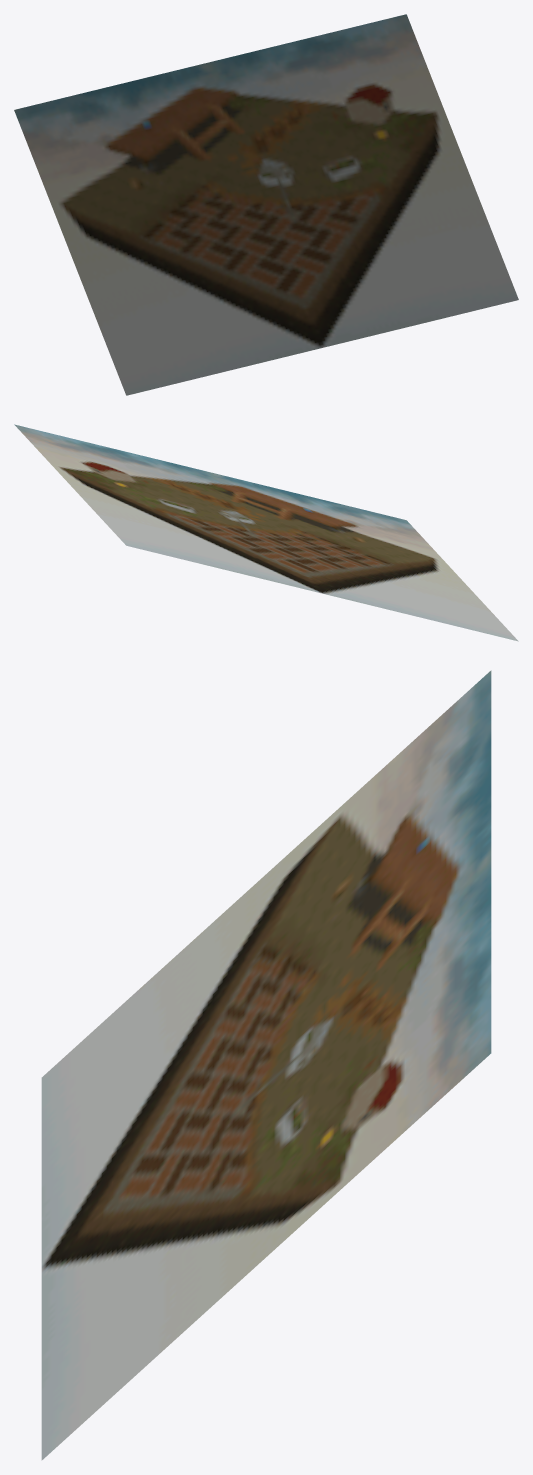
3 views of the same model, one above another, from view 1: azimuth 30°, elevation 25°; view 2: azimuth 150°, elevation 25°; view 3: azimuth 270°, elevation 25° (orthographic). The views are drawn at different scales.
Visible parts, largest first — view 1: Joint_0_Object_0; view 2: Joint_0_Object_0; view 3: Joint_0_Object_0.
Part boxes in pixels (x1=…): Joint_0_Object_0: x1=14, y1=14, x2=518, y2=395; Joint_0_Object_0: x1=14, y1=424, x2=518, y2=641; Joint_0_Object_0: x1=41, y1=670, x2=491, y2=1460.
Size of the model in its own units: 241 by 120 by 120.
1 material, 1 textured.
